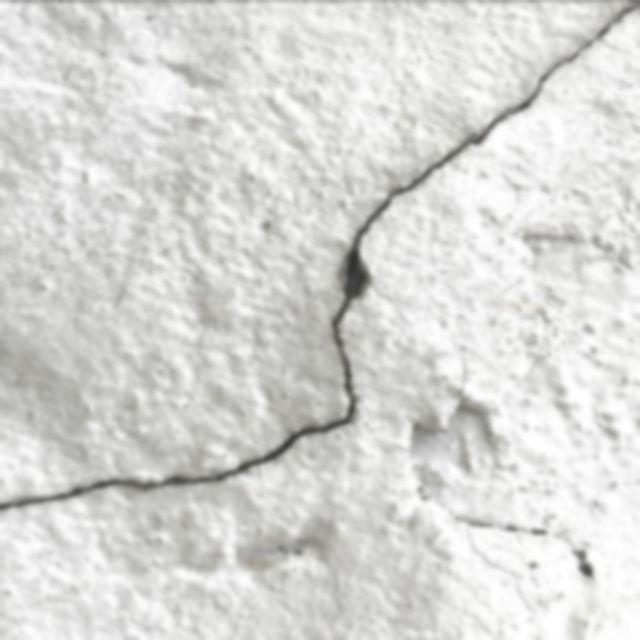SurfaceCrack: (1, 0, 639, 612)
